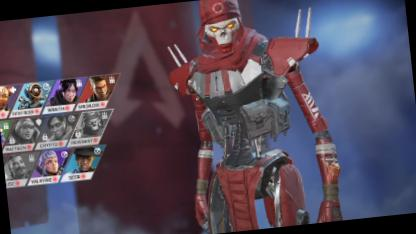Target: (165, 0, 320, 233)
